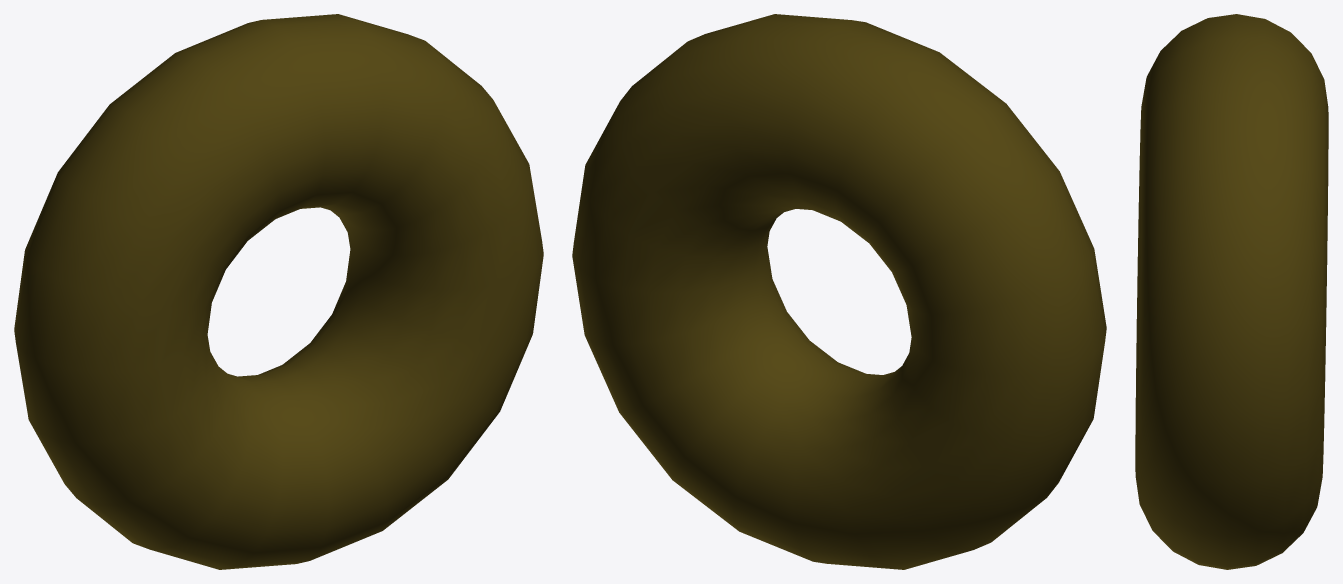
Rendered from DONUT2.fbx.
3 views of the same model, side by side, from view 1: azimuth 30°, elevation 25°; view 2: azimuth 150°, elevation 25°; view 3: azimuth 270°, elevation 25° (orthographic). The views are drawn at different scales.
Parts seen in each view (by area): view 1: pTorus1; view 2: pTorus1; view 3: pTorus1.
Part boxes in pixels (bbox=[...]): pTorus1: bbox=[14, 14, 543, 569]; pTorus1: bbox=[572, 14, 1106, 569]; pTorus1: bbox=[1135, 14, 1328, 569].
Size of the model in its own units: 0.03 by 0.03 by 0.0103.
